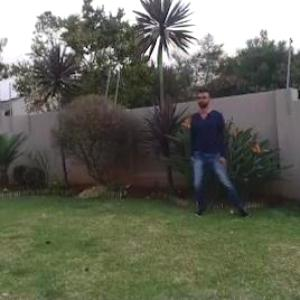follow: (189, 85, 228, 218)
